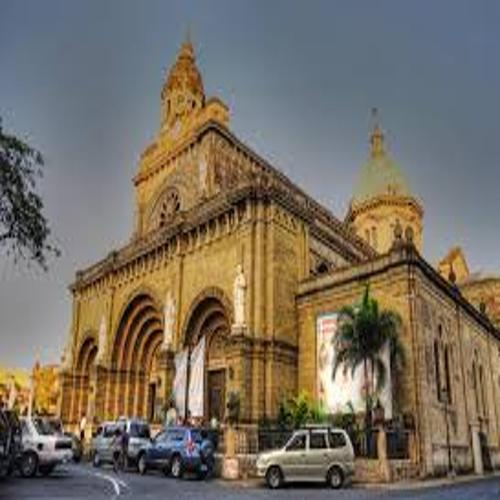Manila Cathedral Church: (55, 19, 447, 480)
